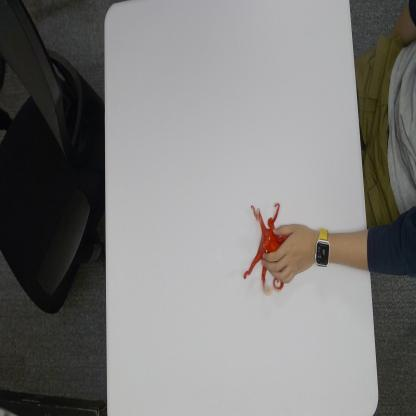Hand: (262, 222, 312, 286)
Octopus: (243, 203, 288, 294)
